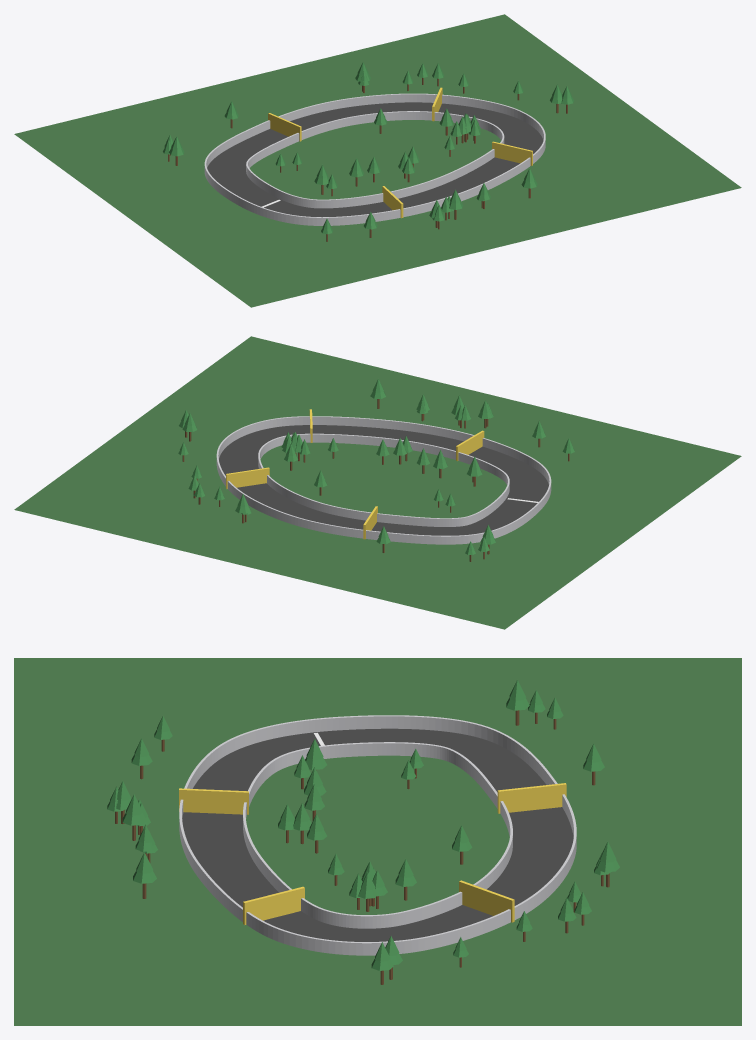
Rendered from racetrack_arcade_v1.fbx.
3 views of the same model, one above another, from view 1: azimuth 30°, elevation 25°; view 2: azimuth 150°, elevation 25°; view 3: azimuth 270°, elevation 25° (orthographic). The views are drawn at different scales.
Visible parts, largest first — view 1: Ground, Road, RightWall, LeftWall, Checkpoint_02, Checkpoint_04; view 2: Ground, Road, RightWall, LeftWall, Checkpoint_03; view 3: Ground, Road, RightWall, LeftWall, Checkpoint_01, Checkpoint_04, Checkpoint_02, Checkpoint_03.
Boxes of the visible parts, x1,y1,x2,y2 form: Ground: [14, 14, 741, 307]; Road: [207, 102, 543, 217]; RightWall: [204, 93, 545, 225]; LeftWall: [246, 111, 504, 208]; Checkpoint_02: [492, 141, 532, 165]; Checkpoint_04: [268, 113, 301, 141]; Ground: [14, 336, 741, 629]; Road: [219, 425, 548, 535]; RightWall: [216, 416, 551, 544]; LeftWall: [258, 433, 509, 526]; Checkpoint_03: [226, 467, 269, 488]; Ground: [14, 658, 741, 1025]; Road: [182, 728, 573, 941]; RightWall: [179, 715, 576, 955]; LeftWall: [243, 742, 512, 928]; Checkpoint_01: [179, 788, 248, 814]; Checkpoint_04: [497, 783, 566, 813]; Checkpoint_02: [243, 886, 304, 924]; Checkpoint_03: [459, 880, 514, 922].
Size of the model in its own units: 11397 by 675 by 9537.
